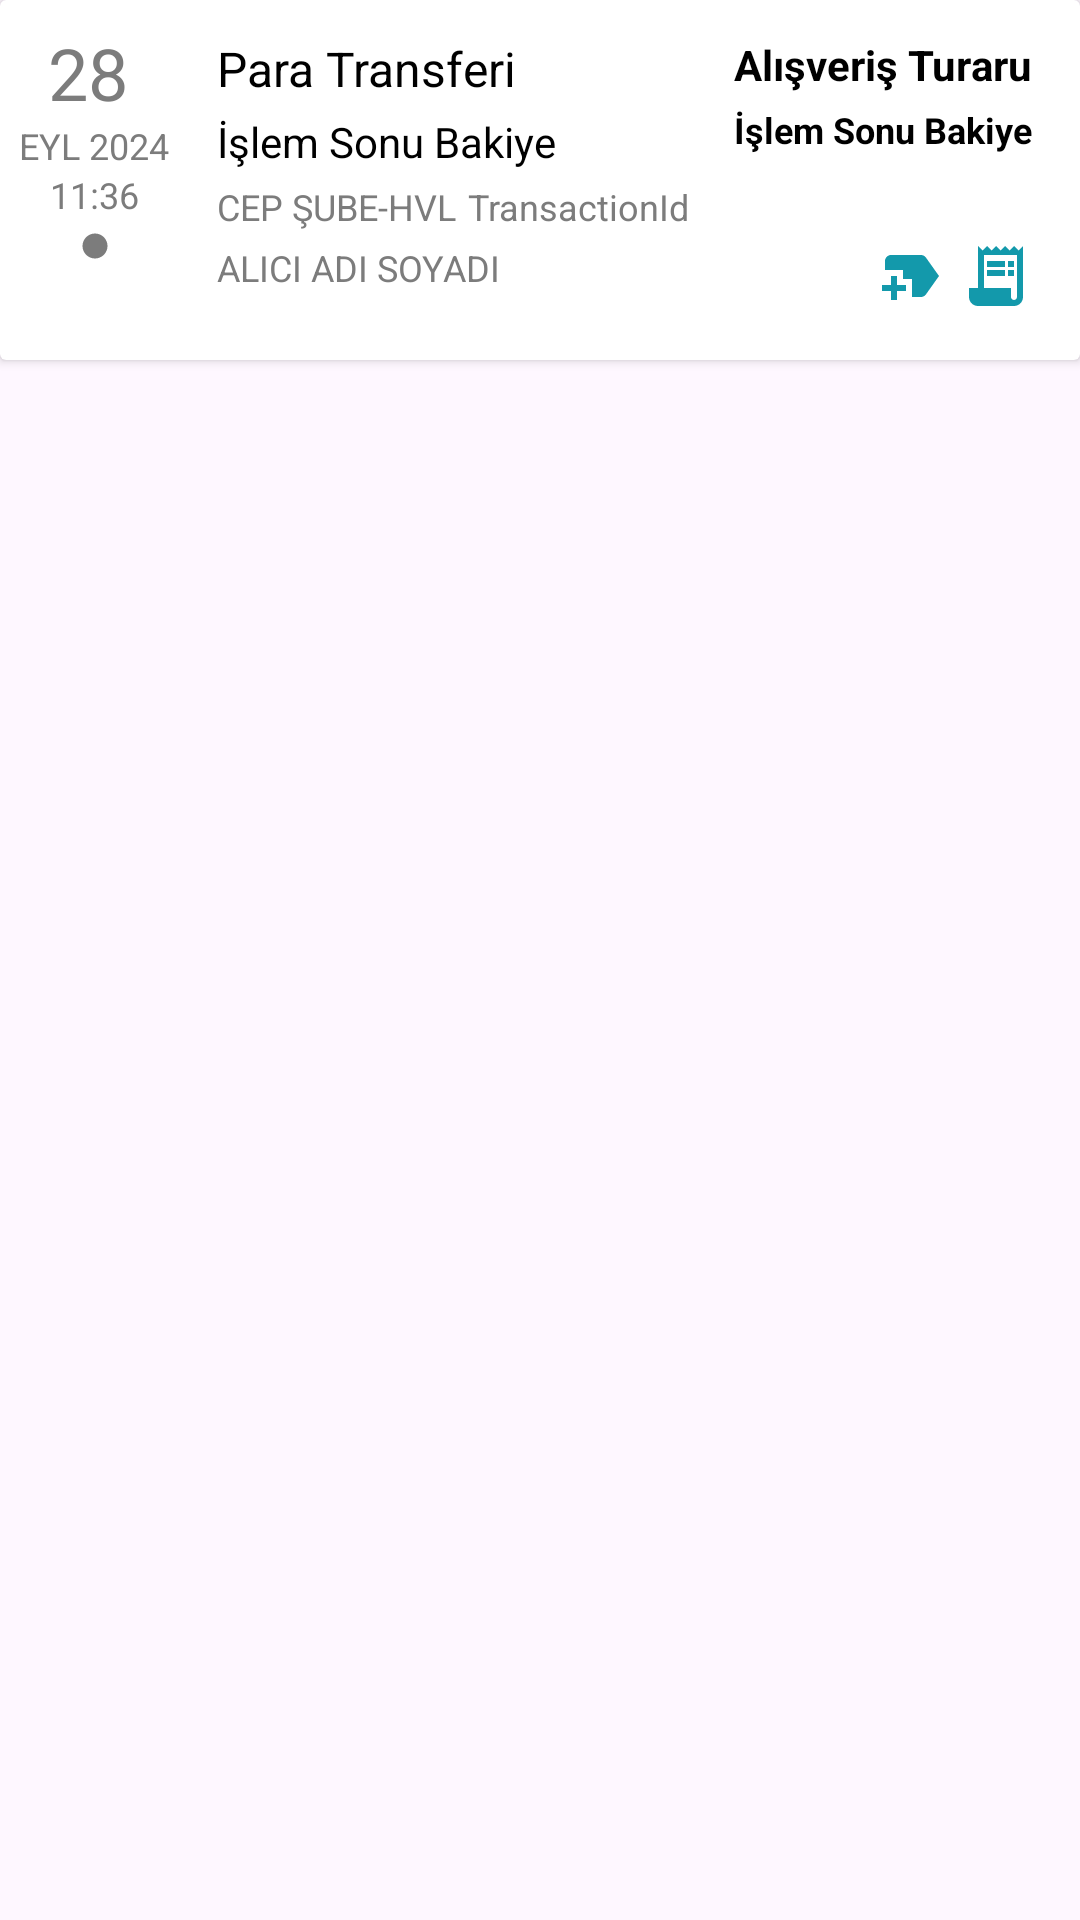

Named icons in this screenshot (1080w x 1920h) and their bounding boxes, BBox(x1, y1, x2, y2):
circle: BBox(82, 233, 108, 259)
label: BBox(882, 255, 939, 300)
receipt long: BBox(969, 246, 1023, 306)
